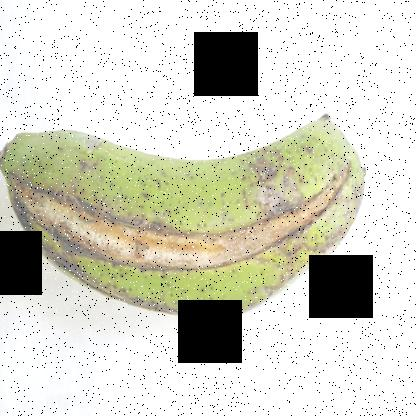rotten: (11, 163, 373, 287)
